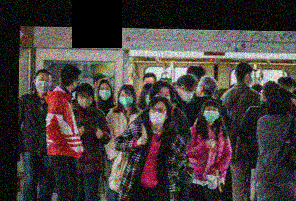with_mask: (148, 105, 168, 126), (203, 105, 221, 123), (36, 74, 53, 92), (179, 85, 197, 102), (75, 92, 94, 108), (118, 91, 135, 108), (153, 89, 171, 104), (97, 85, 112, 101), (143, 90, 152, 106)
